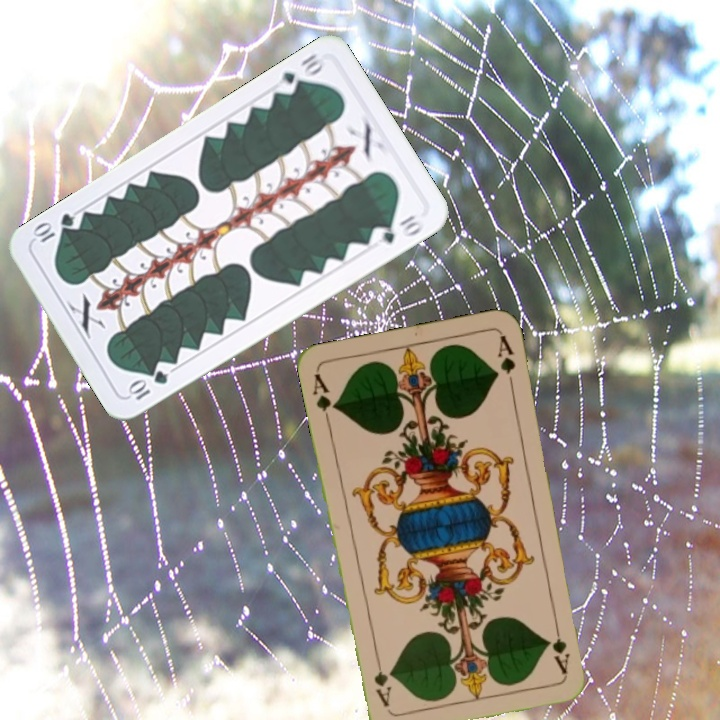G10: (272, 49, 329, 98), (124, 366, 171, 403)
GA: (309, 369, 340, 427), (548, 617, 573, 677)
